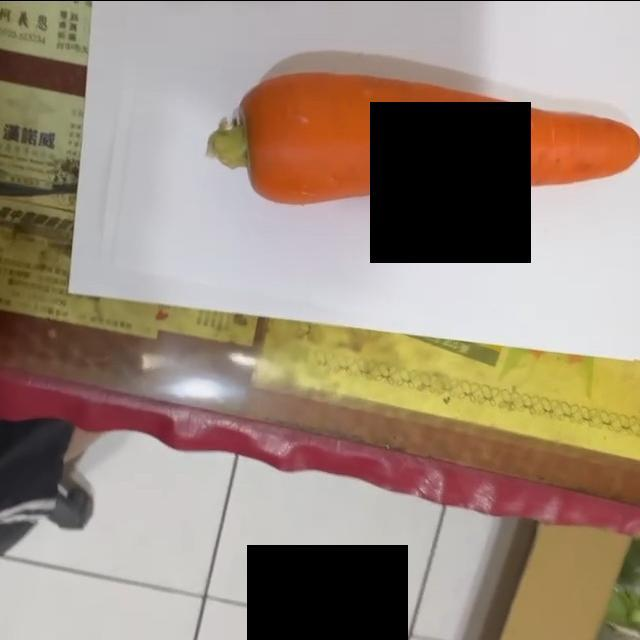carrot: (202, 67, 640, 206)
